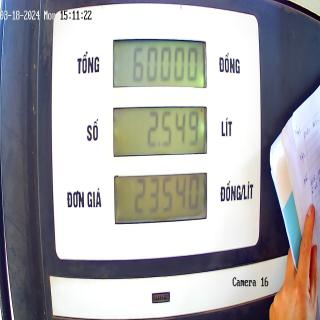screen: (110, 33, 208, 230)
